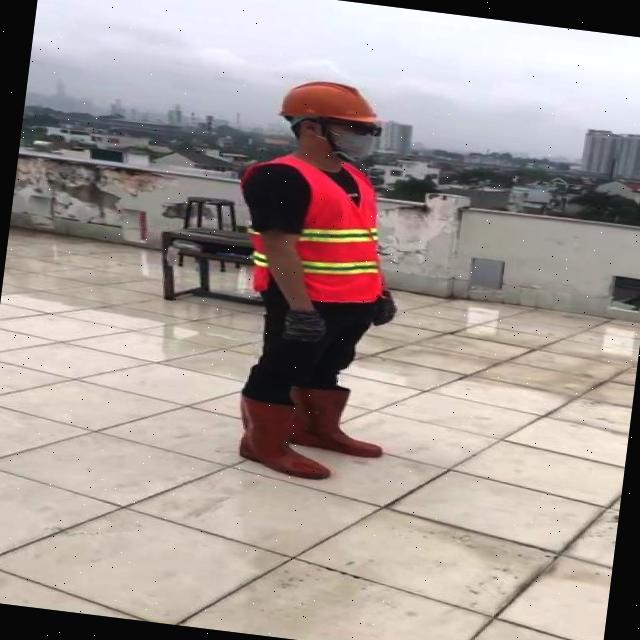boots: (227, 392, 341, 482), (288, 378, 392, 459)
helmet: (274, 74, 384, 130)
vest: (226, 148, 400, 308)
